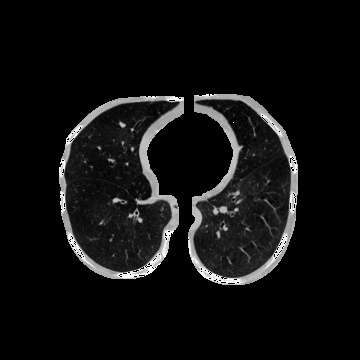PN: (119, 122, 125, 128)
